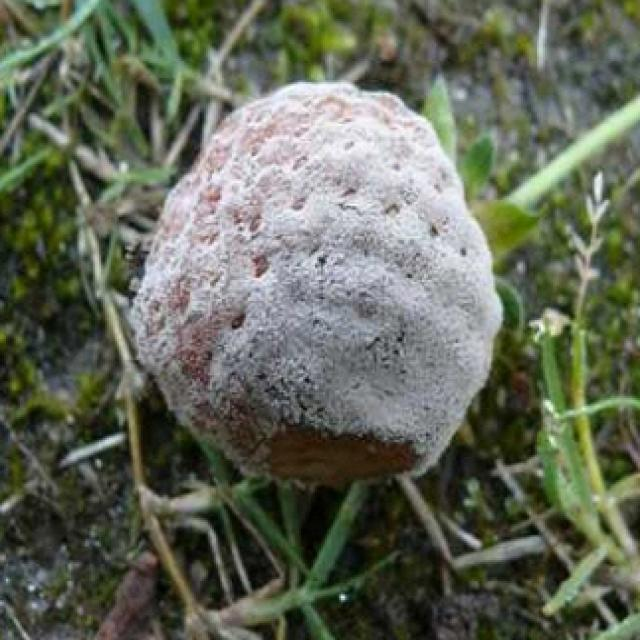Gray Mold: (127, 81, 508, 483)
